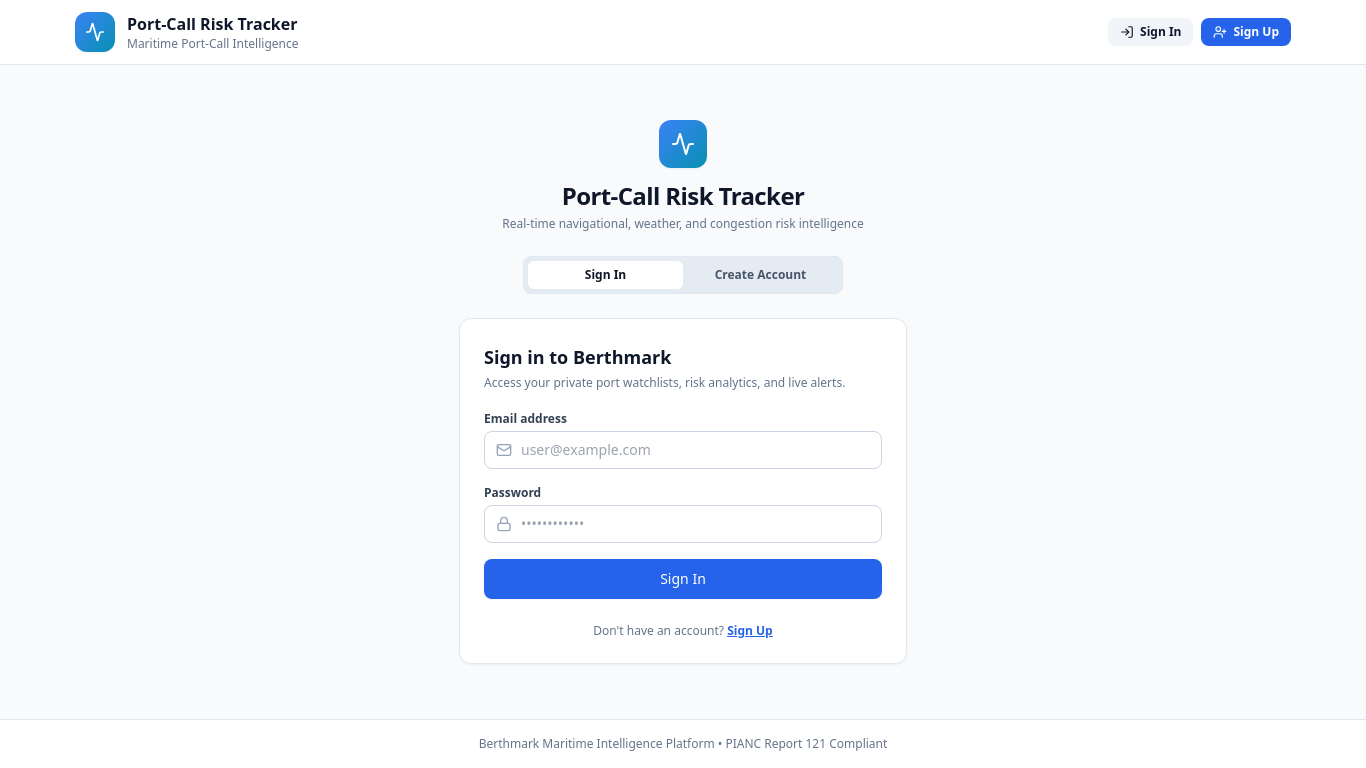
Test: Self-Service User Registration and /signup Route › App Routing with /signup Route › navigates from header Sign Up button to /signup
Click the button with test id "header-signup-btn": [1246, 32] box [1202,18,1291,46]
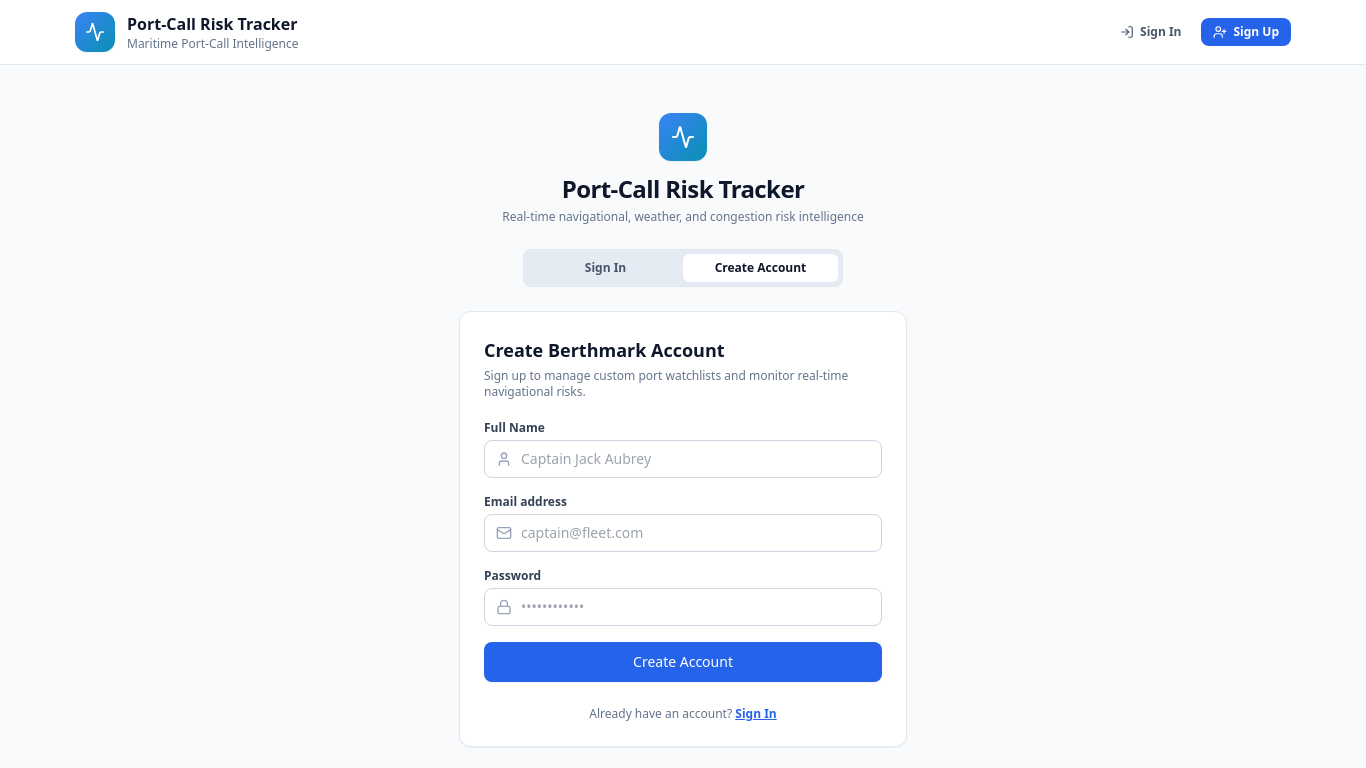
Expected: the heading "Create Berthmark Account" is shown, [484,338,725,362]
